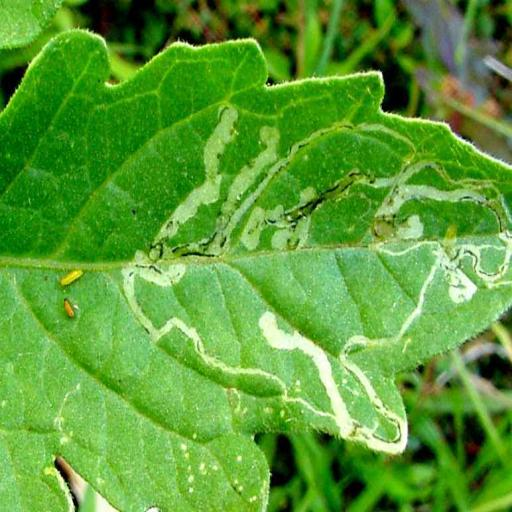disease_tomato: (0, 26, 512, 512)
